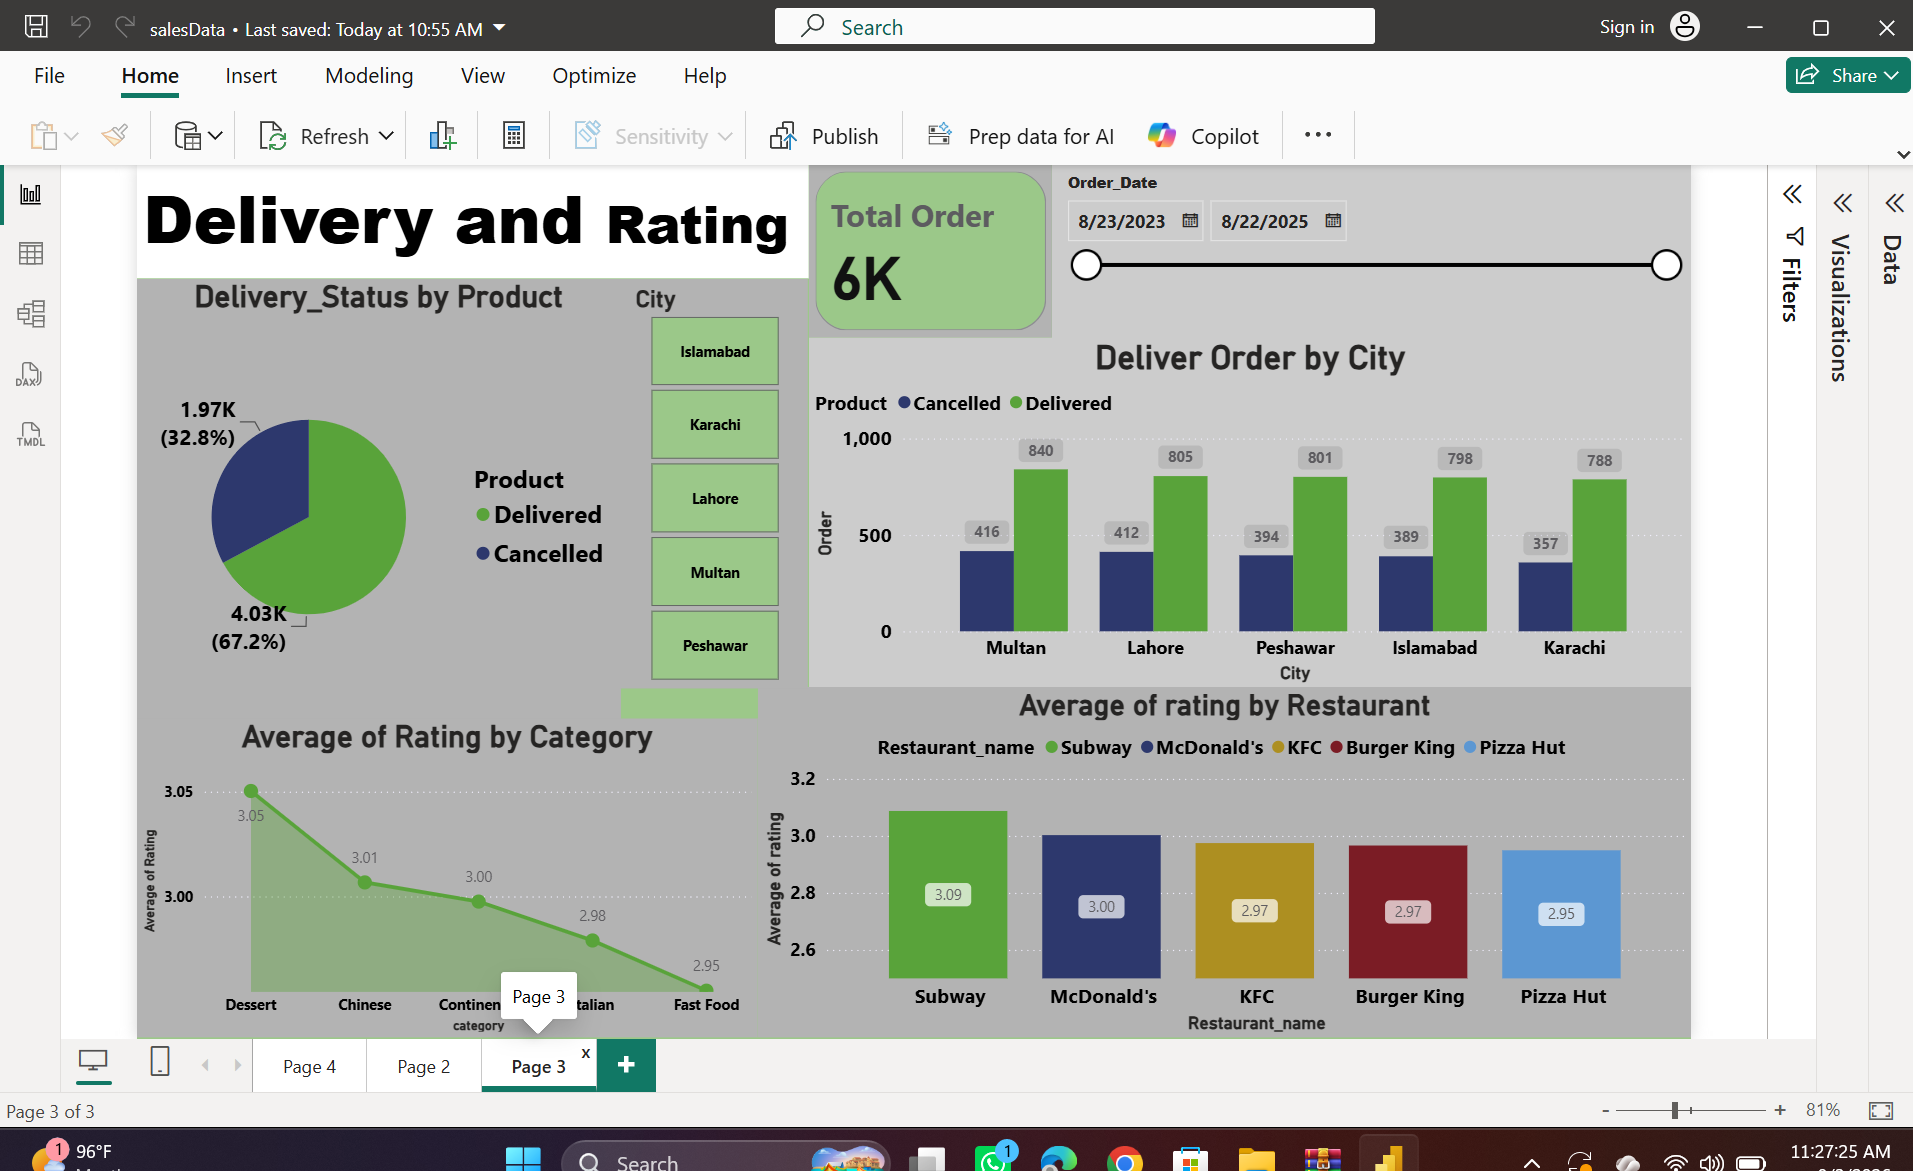

The page's visual inventory and layout, read from the dashboard file:
{"tool":"powerbi","page":{"name":"Page 3","canvas":[1280,720],"ordinal":2},"visuals":[{"type":"pieChart","fields":{"Y":["CountNonNull(foodpandas.delivery_status)"],"Category":["foodpandas.Custom.1"]},"box":[0,93.5,398.4,362.9],"z":0},{"type":"clusteredColumnChart","title":"Deliver Order by City","fields":{"Category":["foodpandas.city"],"Y":["CountNonNull(foodpandas.Custom.1)"],"Series":["foodpandas.Custom.1"]},"box":[553.2,141.9,727.4,288.7],"z":1000},{"type":"lineStackedColumnComboChart","title":"Average of rating by Restaurant","fields":{"Category":["foodpandas.restaurant_name"],"Y":["Avg(foodpandas.rating)"],"Series":["foodpandas.restaurant_name"]},"box":[511.3,430.6,769.4,288.7],"z":2000},{"type":"areaChart","title":"Average of Rating by Category","fields":{"Y":["Avg(foodpandas.rating)"],"Category":["foodpandas.category"]},"box":[0,456.5,511.3,262.9],"z":3000},{"type":"slicer","fields":{"Values":["foodpandas.order_date"]},"box":[753.2,0,527.4,141.9],"z":4000},{"type":"slicer","fields":{"Values":["foodpandas.city"]},"box":[398.4,93.5,154.8,337.1],"z":5000},{"type":"cardVisual","fields":{"Data":["Count(foodpandas.order_id)"]},"box":[553.2,0,200,141.9],"z":6000},{"type":"textbox","box":[0,0,553.2,93.5],"z":7000}]}

Visuals, with their boxes on the page's 1280x720 design canvas (x1, y1, x2, y2). These are canvas units, not pixel positions in the 1913x1171 screenshot, which may show the page scaled, cropped or inside an application window:
pieChart - CountNonNull(foodpandas.delivery_status) x foodpandas.Custom.1: (x1=0, y1=94, x2=398, y2=456)
"Deliver Order by City" clusteredColumnChart: (x1=553, y1=142, x2=1281, y2=431)
"Average of rating by Restaurant" lineStackedColumnComboChart: (x1=511, y1=431, x2=1281, y2=719)
"Average of Rating by Category" areaChart: (x1=0, y1=456, x2=511, y2=719)
slicer - foodpandas.order_date: (x1=753, y1=0, x2=1281, y2=142)
slicer - foodpandas.city: (x1=398, y1=94, x2=553, y2=431)
cardVisual - Count(foodpandas.order_id): (x1=553, y1=0, x2=753, y2=142)
textbox: (x1=0, y1=0, x2=553, y2=94)
